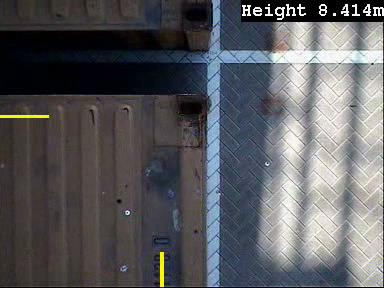groundmarker_2: (154, 33, 276, 100)
